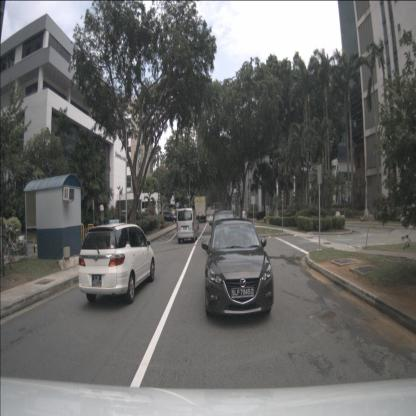human-pedestrian-adult: (242, 208, 245, 228)
vehicle-bicycle: (3, 221, 27, 261), (0, 230, 15, 270)
vehicle-car: (205, 218, 274, 316), (78, 223, 155, 304), (176, 208, 198, 244), (211, 210, 237, 240), (159, 210, 177, 224)
vehicle-truck: (194, 196, 207, 222)
